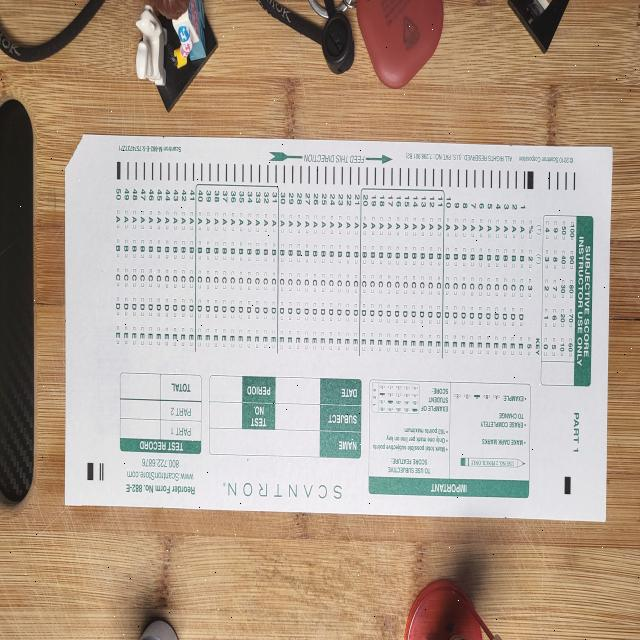scantron: (64, 135, 613, 521)
